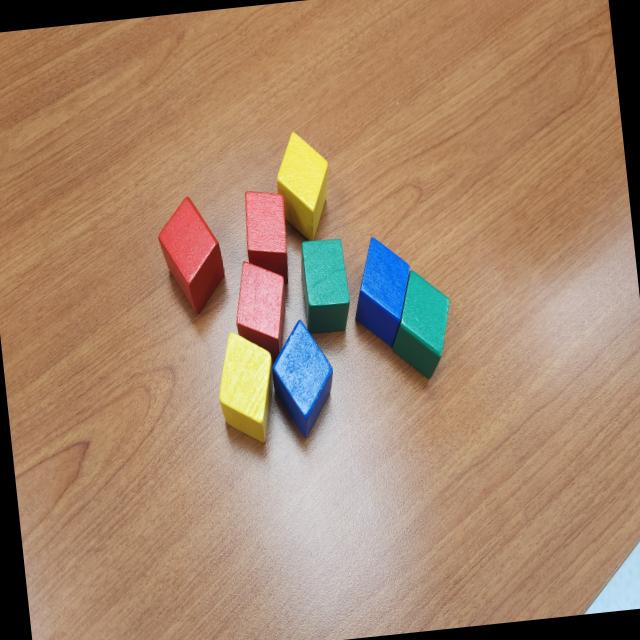blue: (266, 318, 340, 442), (347, 233, 419, 350)
green: (379, 264, 458, 382), (296, 235, 354, 336)
red: (155, 194, 229, 317), (228, 255, 294, 369), (240, 187, 293, 289)
yellow: (212, 326, 281, 446), (272, 128, 336, 242)
